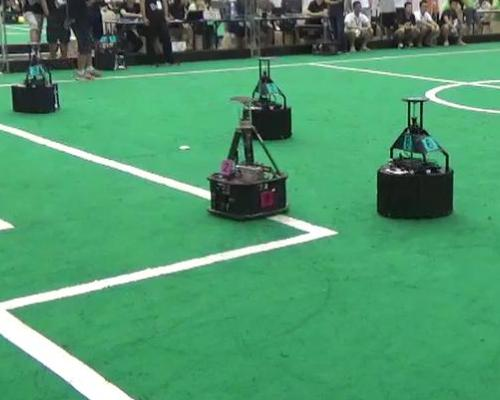robot: (204, 92, 291, 221), (374, 95, 458, 218), (237, 55, 295, 142), (10, 39, 61, 115)
